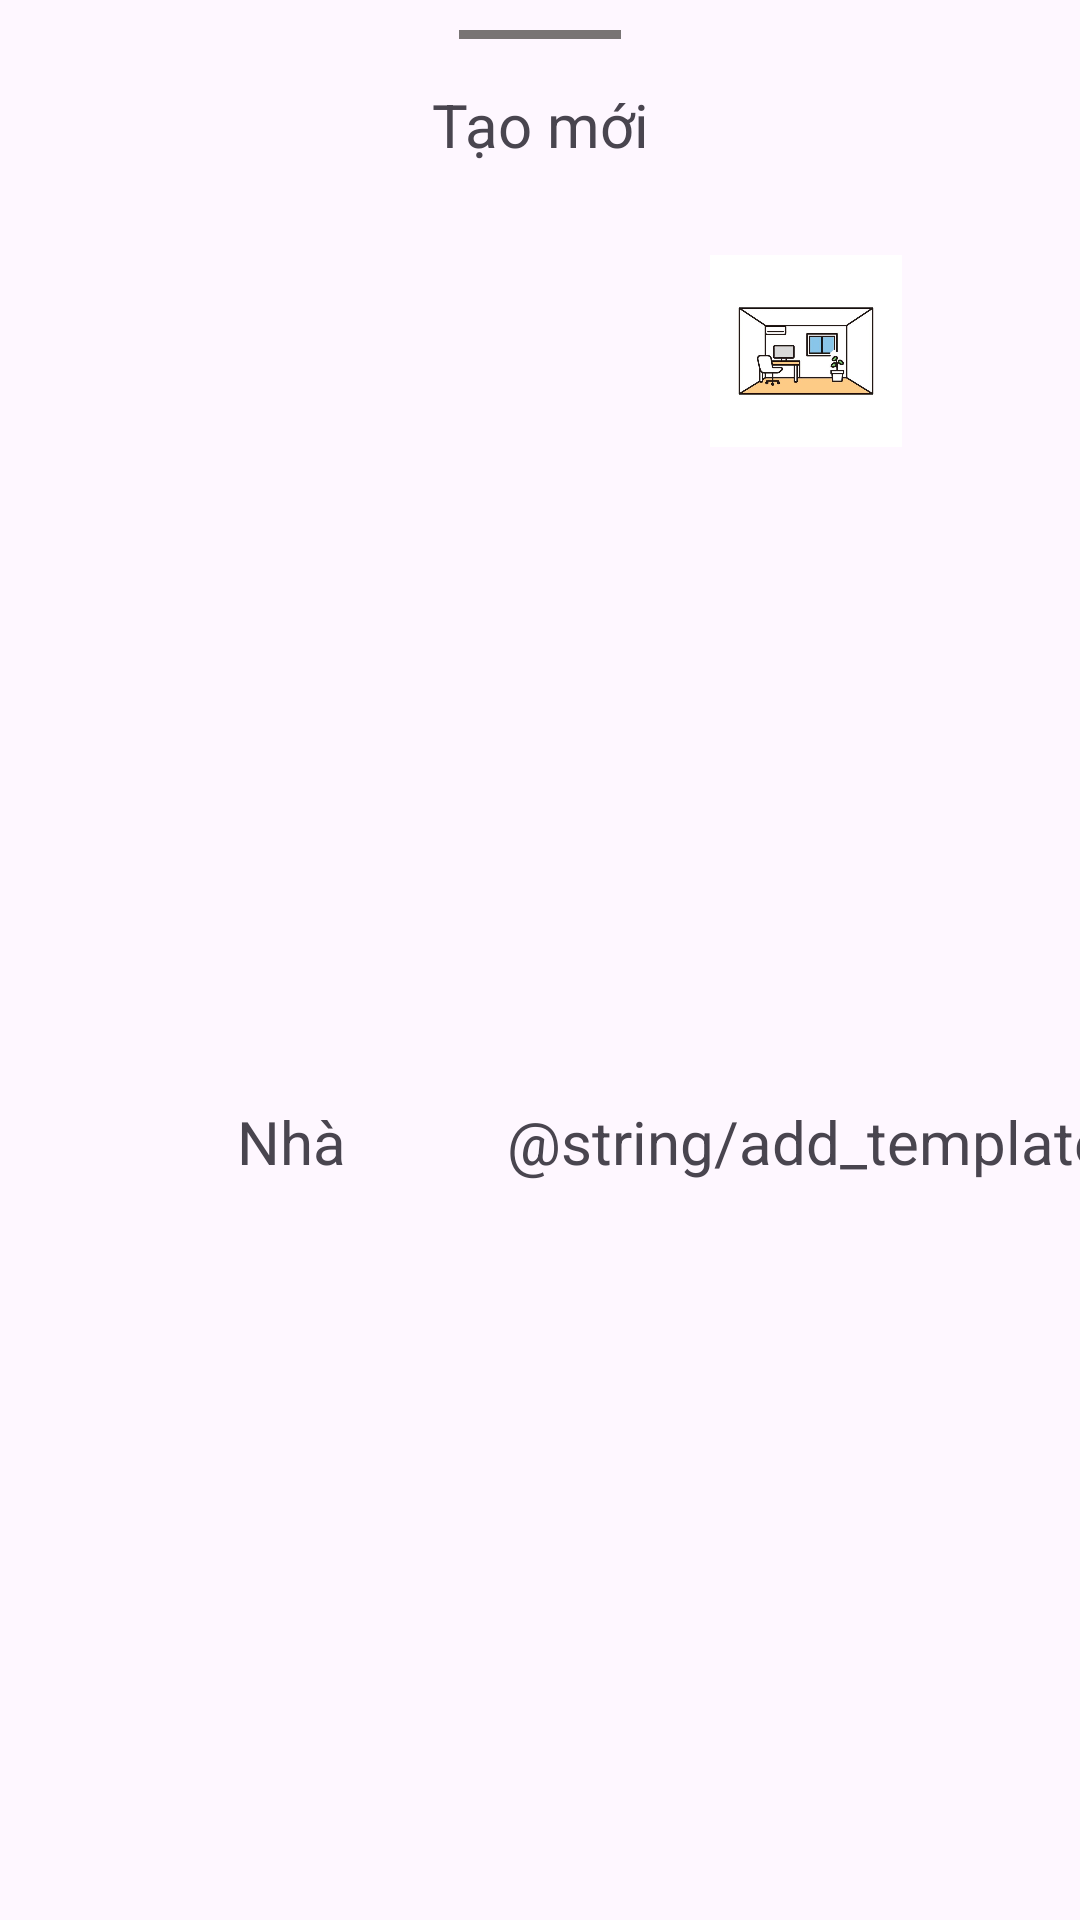

Icon bounding boxes for this 1080×1920 phone screenshot, format (x1, y1, x2, y2):
room: (738, 307, 874, 395)
